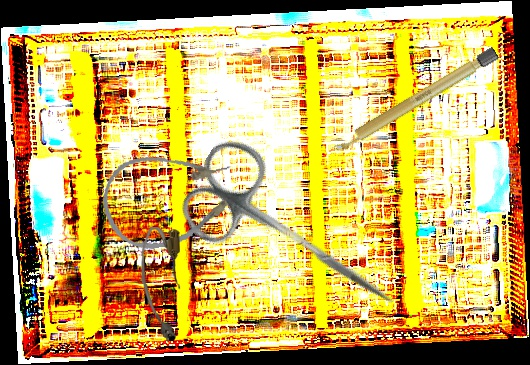Cannula: (96, 143, 243, 256), (139, 225, 184, 343)
Iris Scissors: (169, 129, 423, 343)
Scalpel Handle: (330, 45, 500, 156)
